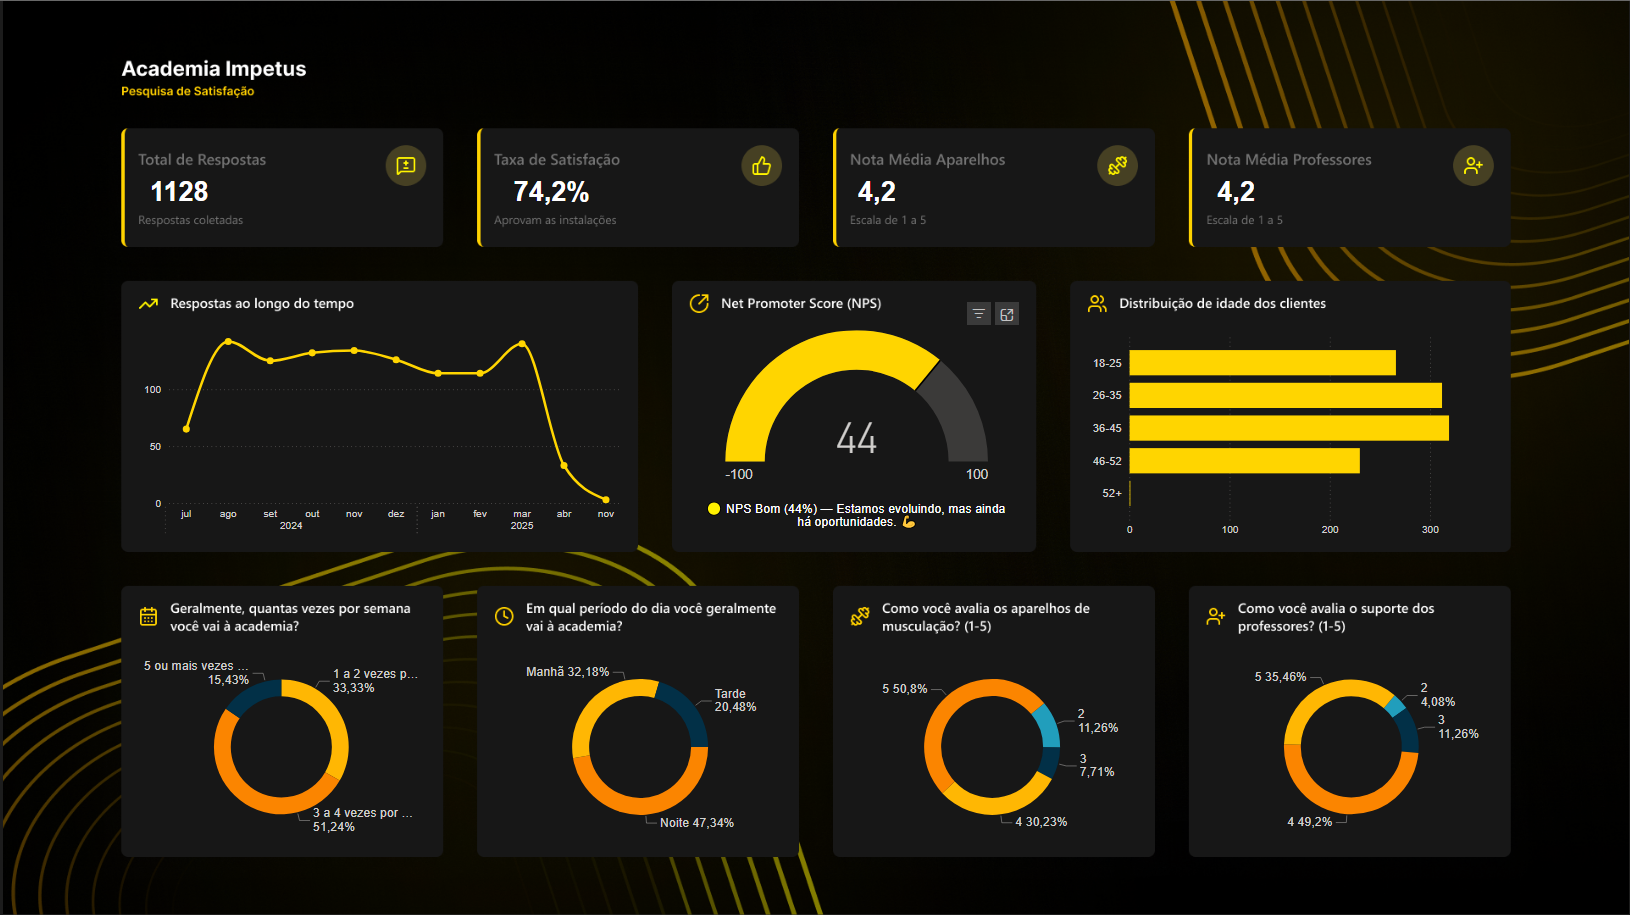

The page's visual inventory and layout, read from the dashboard file:
{"tool":"powerbi","page":{"name":"Dashboard","canvas":[1920,1080],"ordinal":0},"visuals":[{"type":"donutChart","fields":{"Category":["dTreino.frequencia"],"Y":["_Medidas.Total pesquisas"]},"box":[160,768,336,224],"z":0},{"type":"areaChart","fields":{"Y":["_Medidas.Total pesquisas"],"Category":["dCalendario.Ano","dCalendario.Mês Abrev"]},"box":[160,384,576,256],"z":1000},{"type":"barChart","fields":{"Y":["_Medidas.Total pesquisas"],"Category":["dAluno.faixa_etaria"]},"box":[1280,384,480,256],"z":2000},{"type":"donutChart","fields":{"Y":["_Medidas.Total pesquisas"],"Category":["dTreino.periodo"]},"box":[576,768,352,224],"z":3000},{"type":"card","fields":{"Values":["_Medidas.Total pesquisas"]},"box":[144,192,128,64],"z":4000},{"type":"donutChart","fields":{"Y":["_Medidas.Total pesquisas"],"Category":["fPesquisa.nota_aparelhos"]},"box":[992,768,352,224],"z":5000},{"type":"donutChart","fields":{"Y":["_Medidas.Total pesquisas"],"Category":["fPesquisa.nota_professores"]},"box":[1424,768,336,224],"z":6000},{"type":"card","fields":{"Values":["_Medidas.Nota Média Professores"]},"box":[1424,192,64,64],"z":7000},{"type":"card","fields":{"Values":["_Medidas.Nota Média Aparelhos"]},"box":[992,192,80,64],"z":8000},{"type":"card","fields":{"Values":["_Medidas.Taxa Satisfação Instalações"]},"box":[576,192,144,64],"z":9000},{"type":"gauge","fields":{"Y":["_Medidas.NPS"]},"box":[816,384,384,192],"z":10000},{"type":"card","fields":{"Values":["_Medidas.NPS Status Emoji"]},"box":[800,576,416,64],"z":11000}]}

Visuals, with their boxes in screenshot pixels (x1, y1, x2, y2), scaled from the page's 1920x1080 canvas onto the 1630x915 screenshot:
donutChart - dTreino.frequencia x _Medidas.Total pesquisas: [136,651,421,840]
areaChart - _Medidas.Total pesquisas x dCalendario.Ano: [136,325,625,542]
barChart - _Medidas.Total pesquisas x dAluno.faixa_etaria: [1087,325,1494,542]
donutChart - _Medidas.Total pesquisas x dTreino.periodo: [489,651,788,840]
card - _Medidas.Total pesquisas: [122,163,231,217]
donutChart - _Medidas.Total pesquisas x fPesquisa.nota_aparelhos: [842,651,1141,840]
donutChart - _Medidas.Total pesquisas x fPesquisa.nota_professores: [1209,651,1494,840]
card - _Medidas.Nota Média Professores: [1209,163,1263,217]
card - _Medidas.Nota Média Aparelhos: [842,163,910,217]
card - _Medidas.Taxa Satisfação Instalações: [489,163,611,217]
gauge - _Medidas.NPS: [693,325,1019,488]
card - _Medidas.NPS Status Emoji: [679,488,1032,542]
